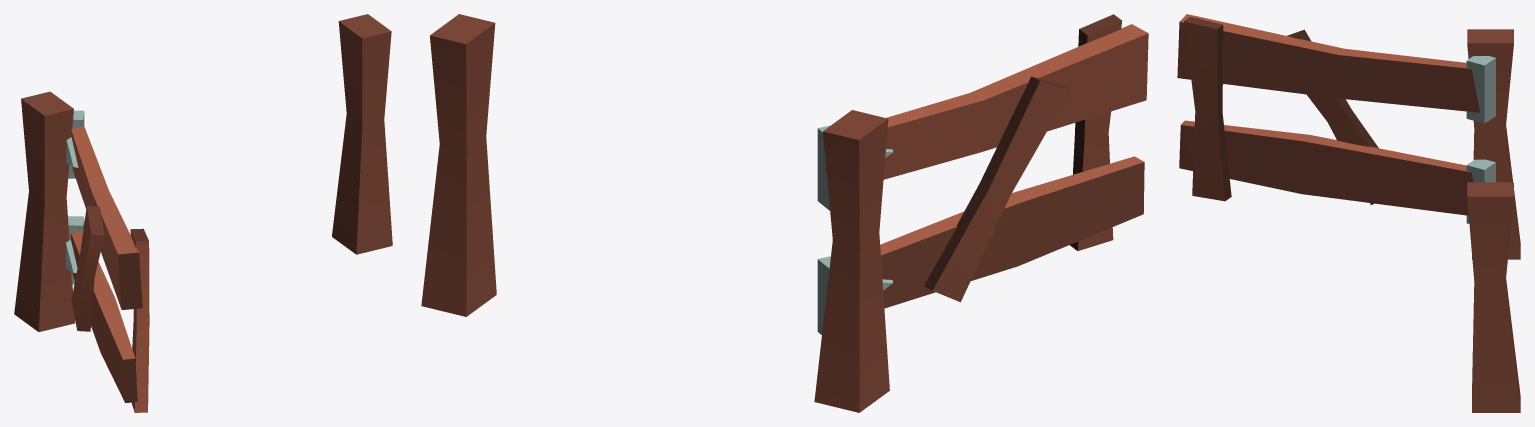
The model's file is Wooden_gate_open_1.fbx.
The picture shows the model from 3 angles, left to right: view 1: azimuth 30°, elevation 25°; view 2: azimuth 150°, elevation 25°; view 3: azimuth 270°, elevation 25°; orthographic projection. The views are drawn at different scales.
Parts seen in each view (by area): view 1: Wooden_gate_open_1; view 2: Wooden_gate_open_1; view 3: Wooden_gate_open_1.
Boxes of the visible parts, x1=… form: Wooden_gate_open_1: x1=14, y1=14, x2=392, y2=412; Wooden_gate_open_1: x1=421, y1=14, x2=1148, y2=412; Wooden_gate_open_1: x1=1177, y1=14, x2=1520, y2=412.
Size of the model in its own units: 0.0283 by 0.014 by 0.0203.
